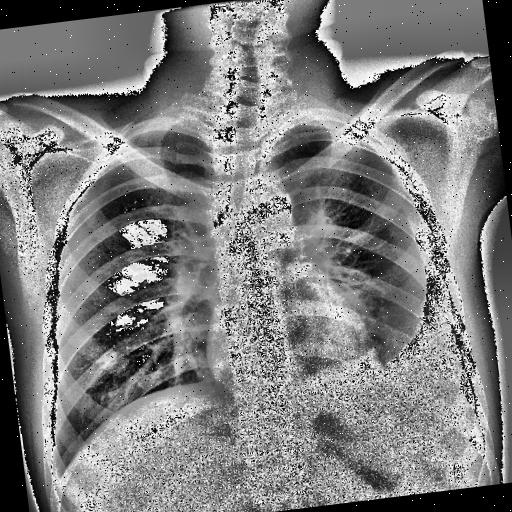10- Pleural effusion: (338, 192, 482, 428), (334, 202, 476, 428), (350, 208, 470, 398)
